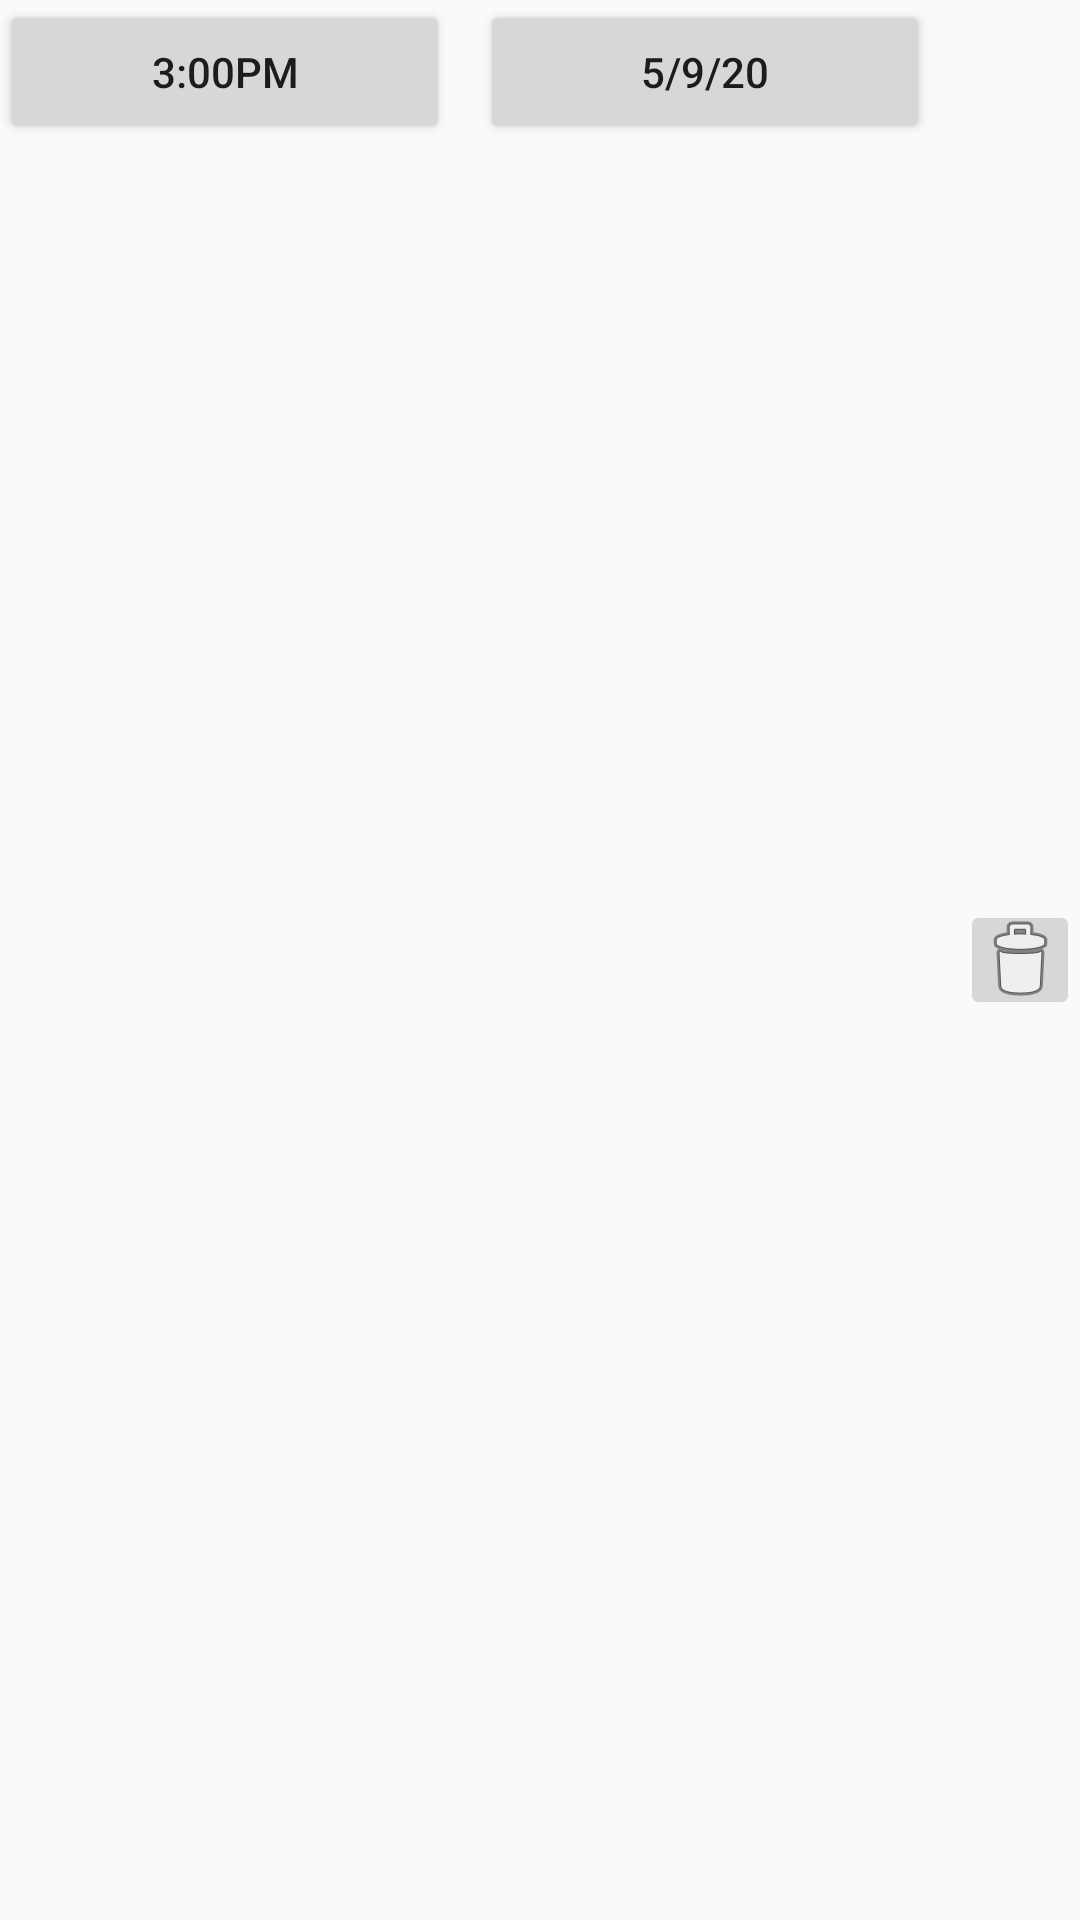

Where to tap for icons on this 1080×1920 app screen, as point (x, y):
delete: point (1020, 960)
